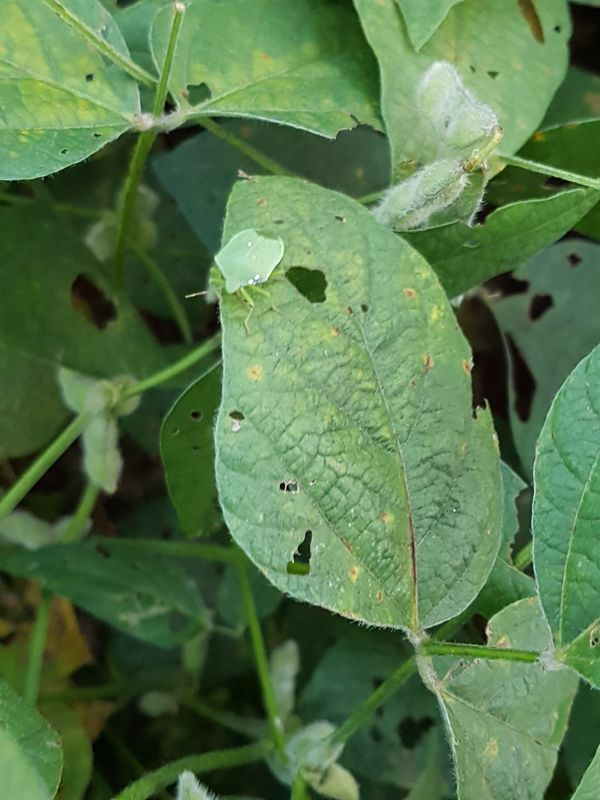Nezara_viridula_adulto: (164, 209, 301, 328)
